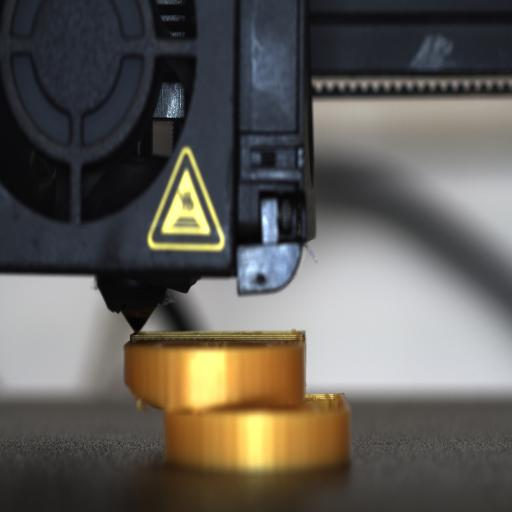layer_shift: (122, 382, 353, 422)
